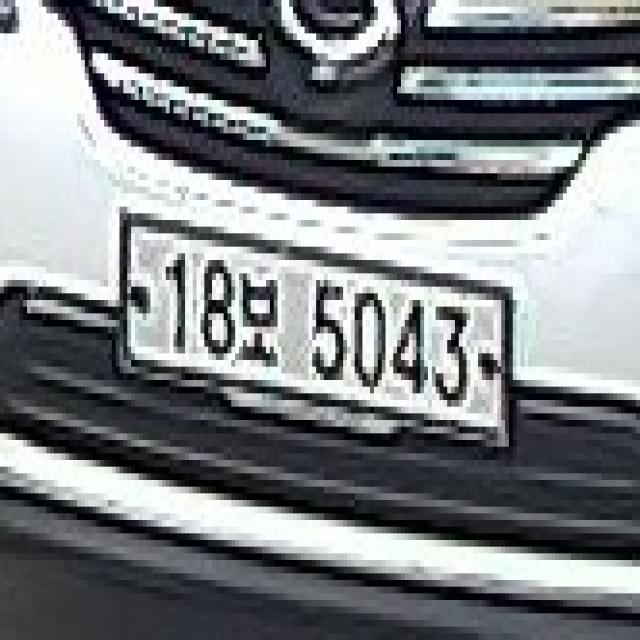0: (351, 287, 389, 393)
1: (162, 246, 193, 366)
3: (432, 294, 470, 414)
4: (393, 286, 428, 406)
5: (308, 273, 351, 387)
8: (201, 246, 239, 366)
bo: (239, 260, 281, 373)
license_plate: (108, 206, 520, 466)
